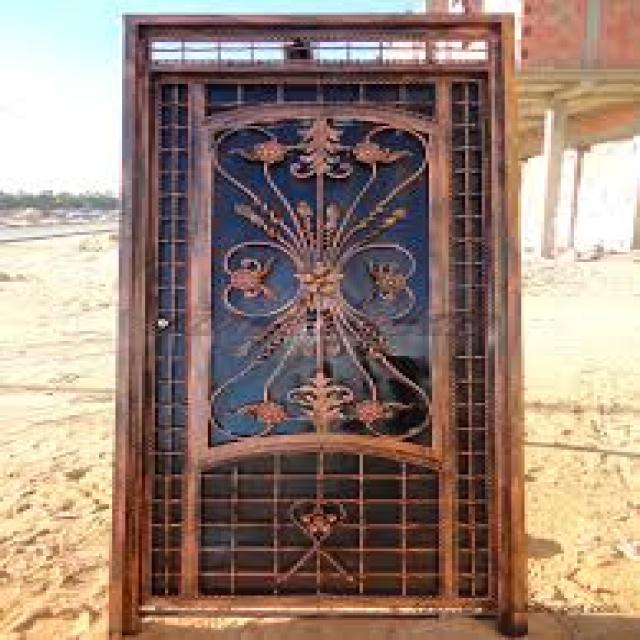door: (118, 11, 532, 640)
